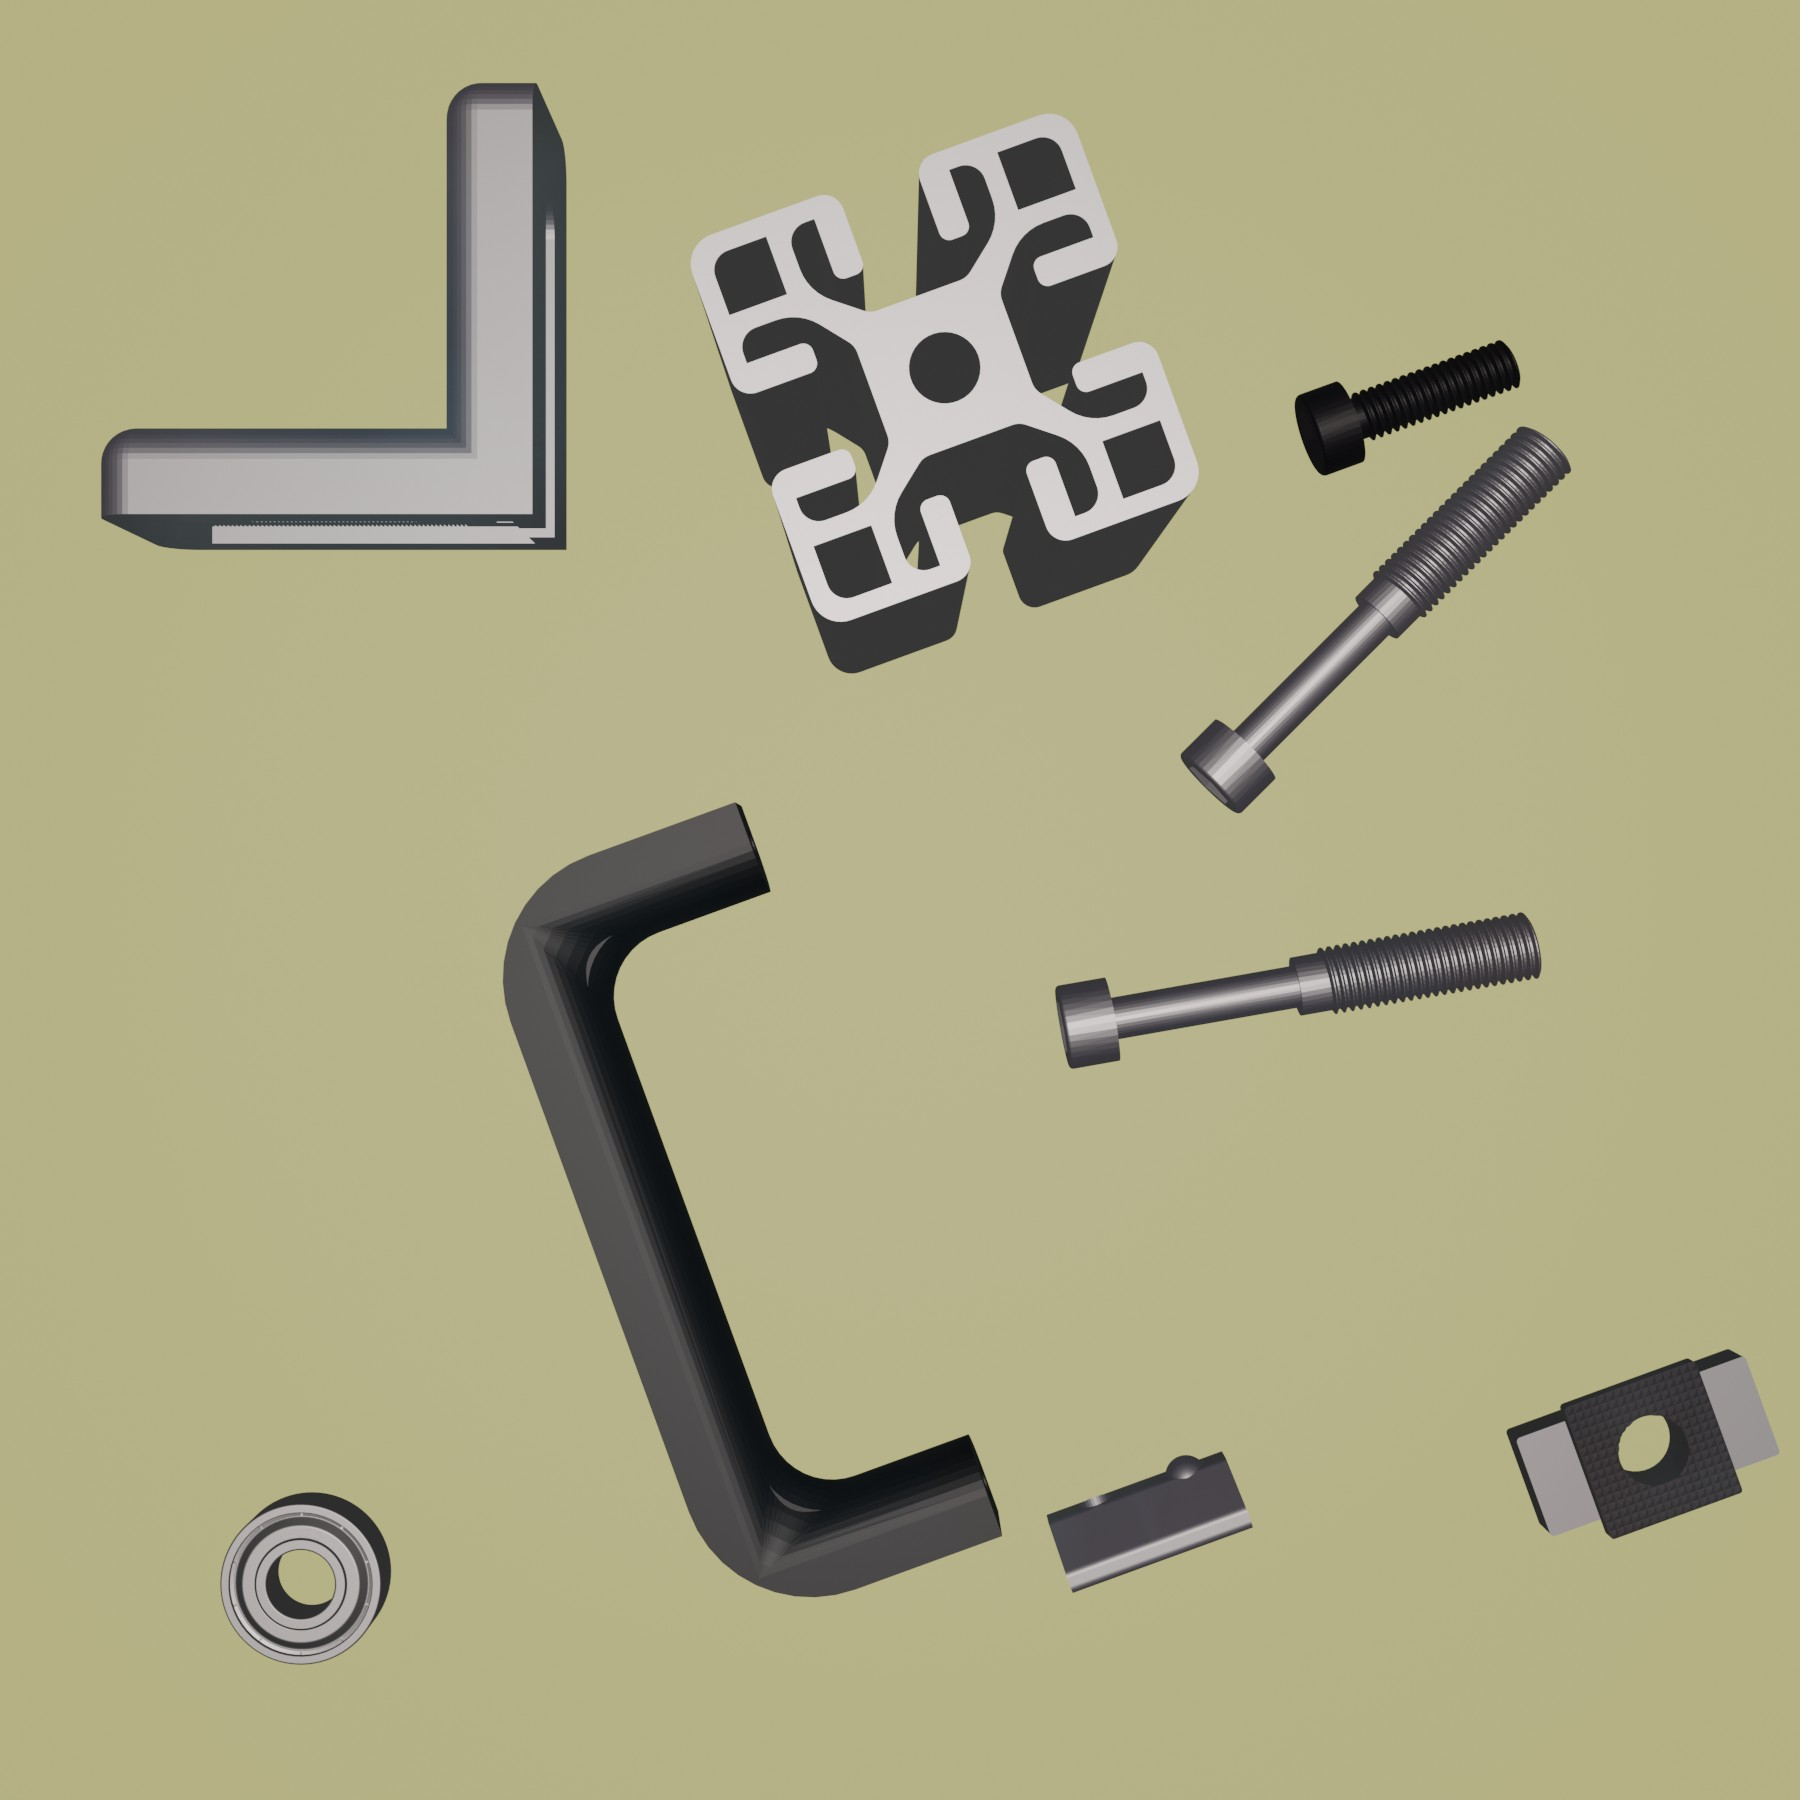Aluminium Extension: (686, 112, 1200, 676)
Ball Bearing: (218, 1492, 392, 1670)
Multiwinkel: (96, 77, 570, 559)
Pull Handle: (499, 799, 1009, 1599)
Shoulder Socket Head Cap Screw: (1179, 424, 1573, 819), (1052, 908, 1546, 1071)
Socket Head Cap Screw: (1292, 335, 1523, 478)
T Nut Square: (1503, 1345, 1784, 1541)
T Spring Nut: (1043, 1446, 1258, 1599)
